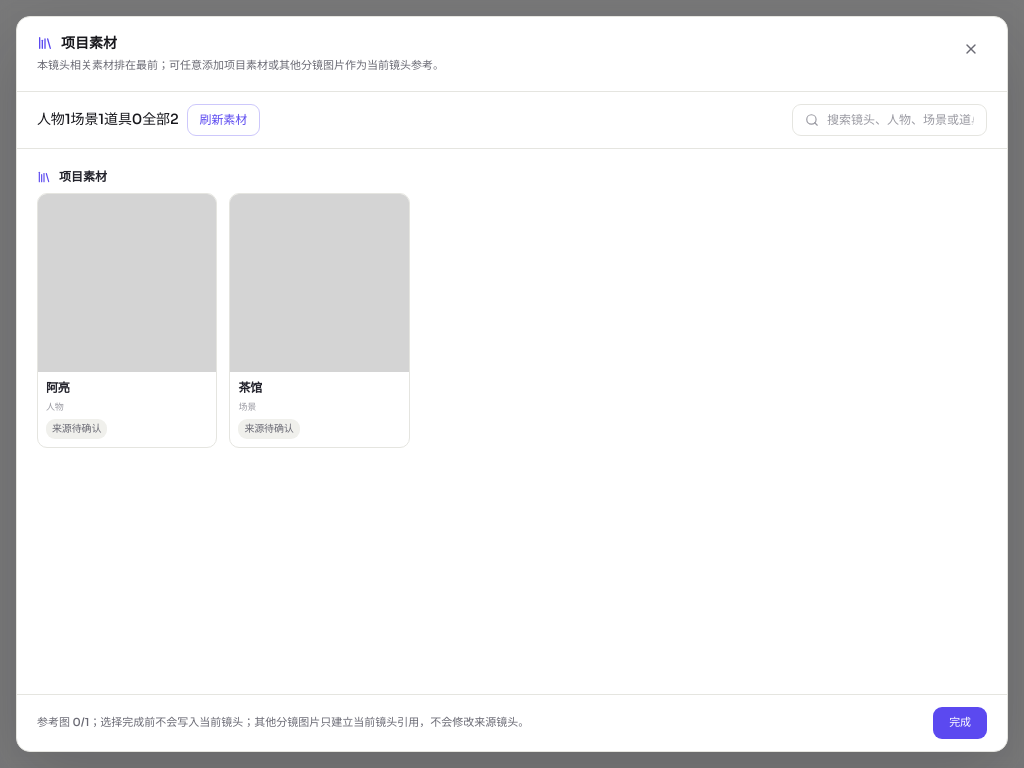
Scenario: shared project material picker › shows a search-empty state
Type "不存在" into the field with placeholder "搜索镜头、人物、场景或道具".
click(900, 120); type("不存在")  # box [827,112,974,128]
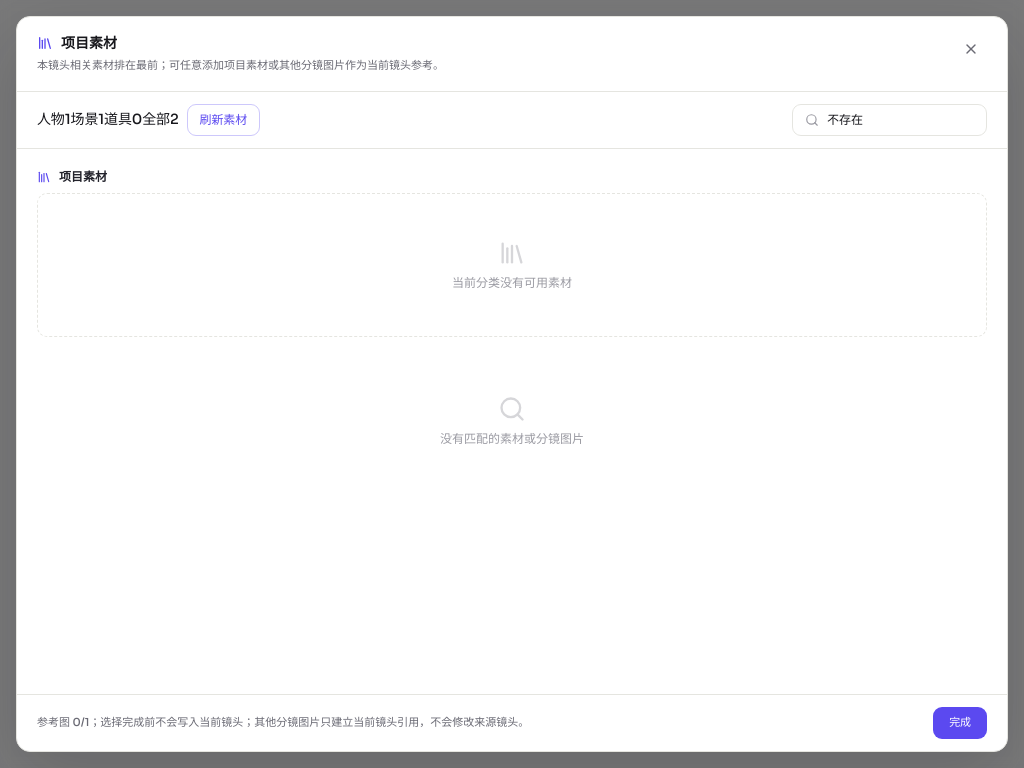
Expected: the text "没有匹配的素材或分镜图片" is shown, [440,431,584,447]
